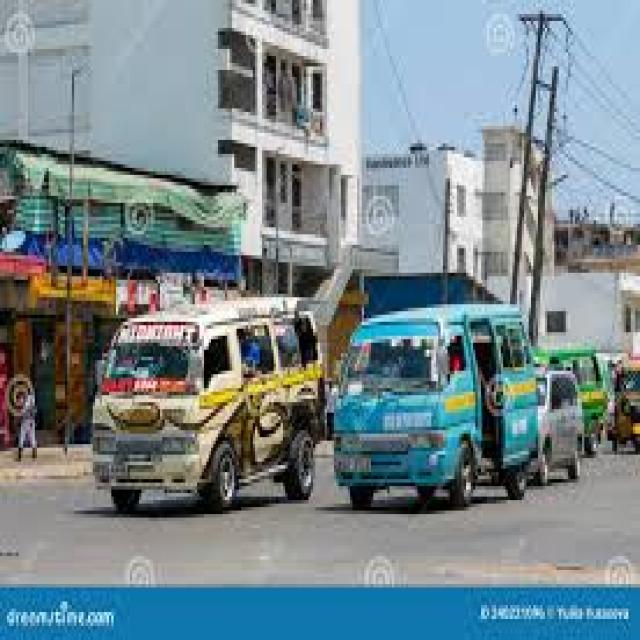matatu: (91, 272, 337, 544), (352, 284, 536, 520), (545, 327, 608, 466)
tuktuk: (615, 354, 640, 457)
